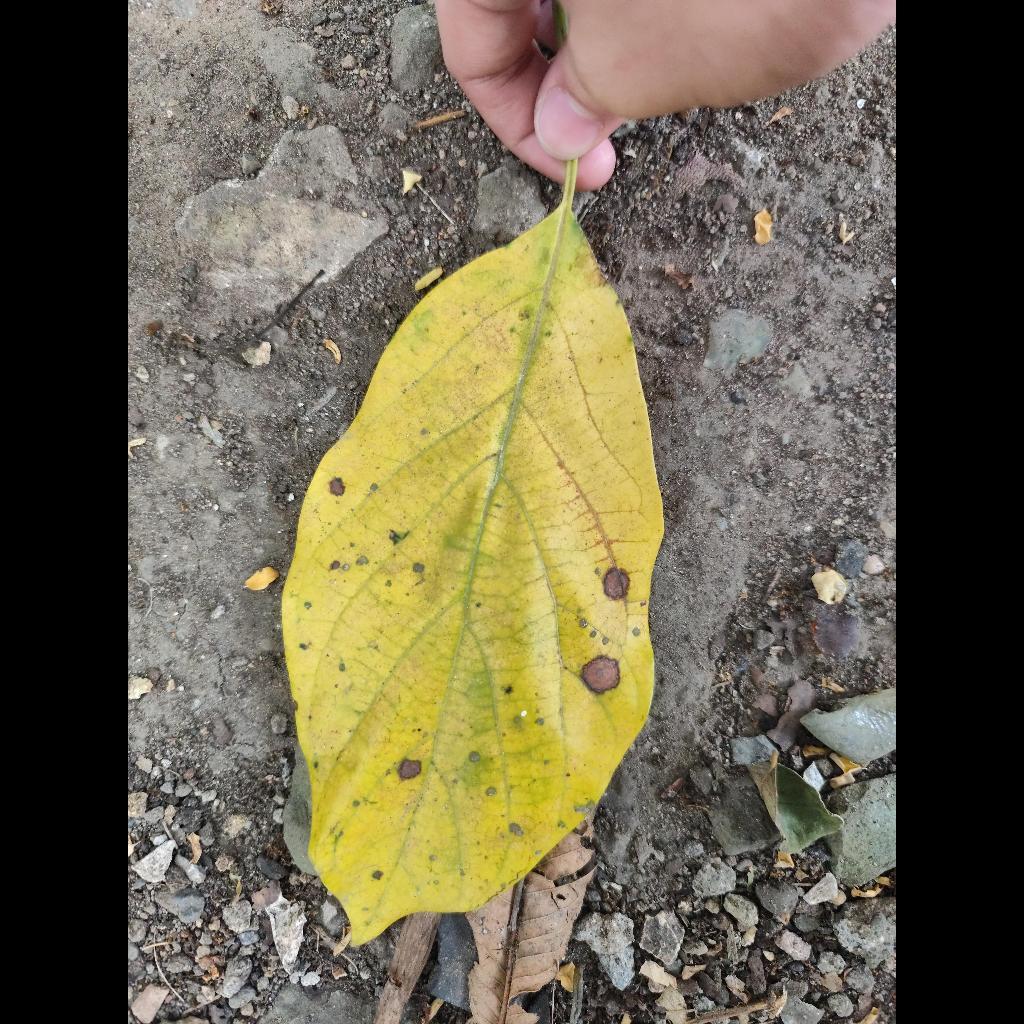deficiencia_nutricional: (283, 163, 663, 942)
